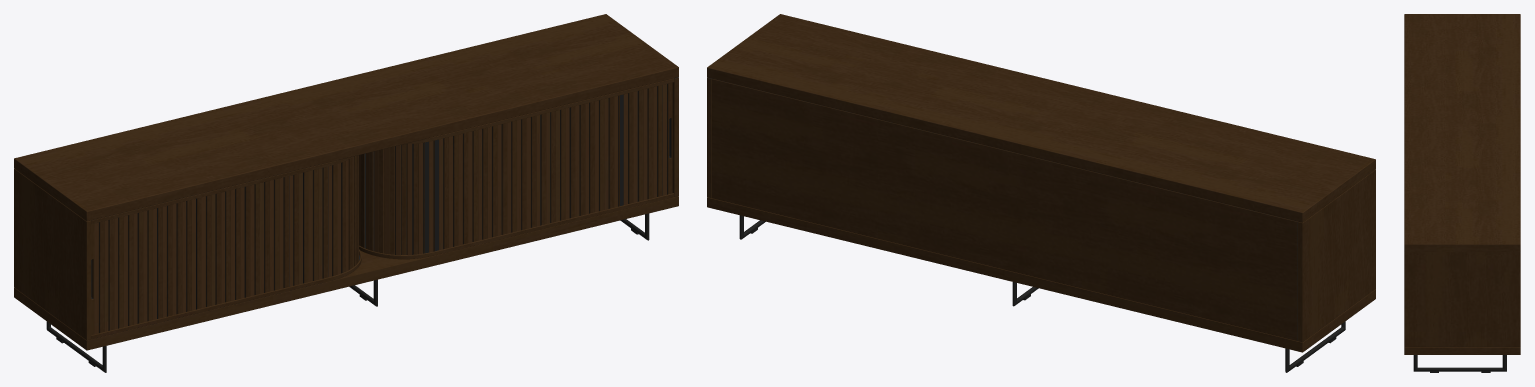
File: walnut.glb
The picture shows the model from 3 angles, left to right: view 1: azimuth 30°, elevation 25°; view 2: azimuth 150°, elevation 25°; view 3: azimuth 270°, elevation 25°; orthographic projection. The views are drawn at different scales.
Visible parts, largest first — view 1: krosna; view 2: krosna; view 3: krosna.
Part boxes in pixels (x1,y1,x2,y2): krosna: [14, 14, 678, 372]; krosna: [707, 14, 1375, 372]; krosna: [1404, 14, 1520, 372].
Bounding box in the file's own units: 2.44 × 0.6801 × 0.52.
2 materials, 1 textured.
